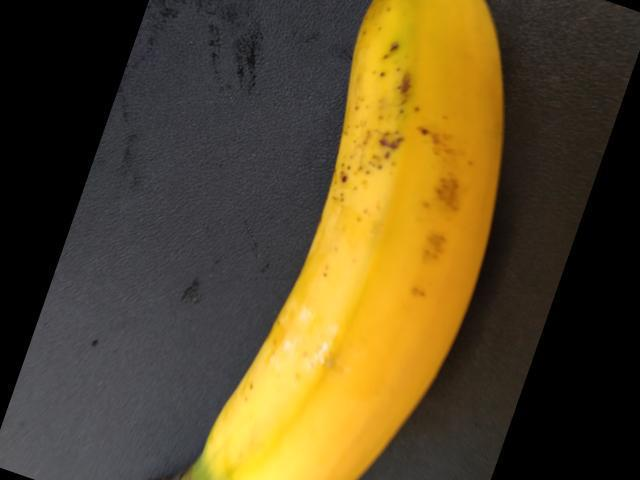ripe: (182, 8, 510, 479)
